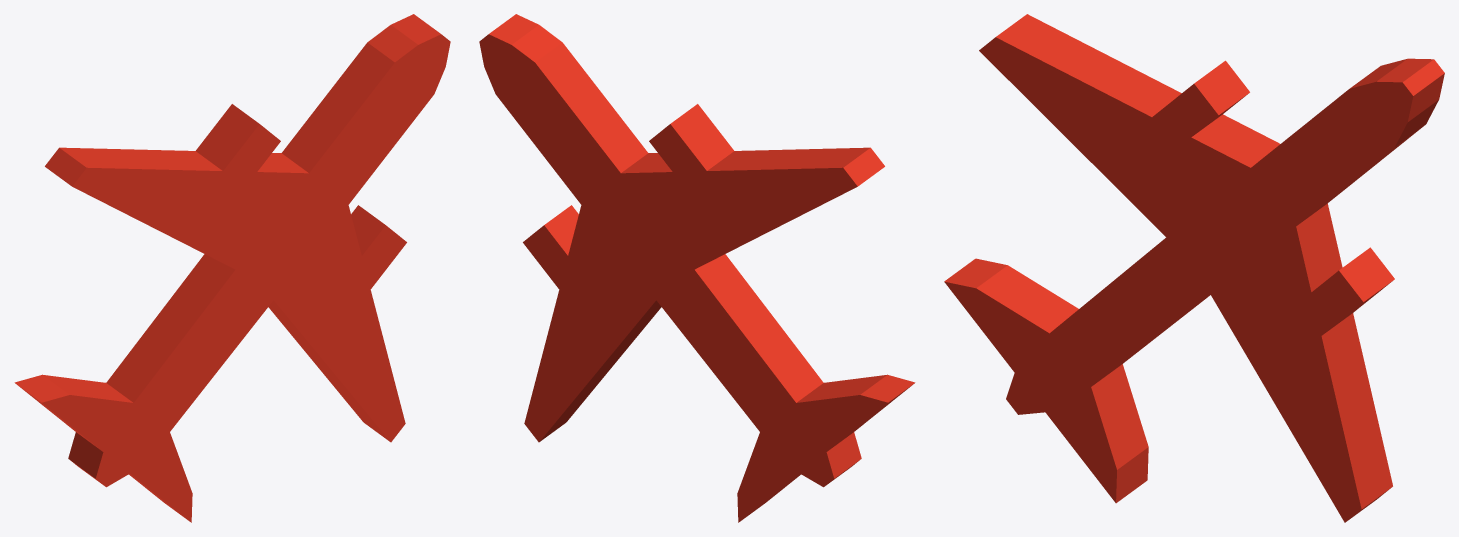
The model's file is Icon_Plane_02.fbx.
The picture shows the model from 3 angles, left to right: view 1: azimuth 30°, elevation 25°; view 2: azimuth 150°, elevation 25°; view 3: azimuth 330°, elevation 25°; orthographic projection. The views are drawn at different scales.
Parts seen in each view (by area): view 1: Icon_Plane_02; view 2: Icon_Plane_02; view 3: Icon_Plane_02.
Part boxes in pixels (box(x1,y1,x2,y2)): Icon_Plane_02: box(14, 14, 450, 522); Icon_Plane_02: box(479, 14, 915, 522); Icon_Plane_02: box(944, 14, 1444, 522).
Bounding box in the file's own units: 75.84 × 75.84 × 8.85.
